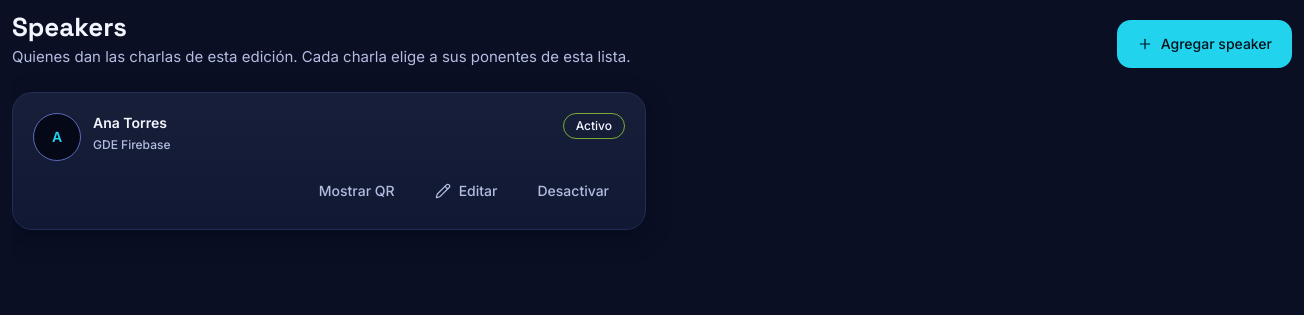
Test: SpeakersAdminView › stops offering a speaker and says what that means
This screenshot has width=1304, height=315.
Click the button "Desactivar" at (573, 191), box [522, 173, 625, 209]
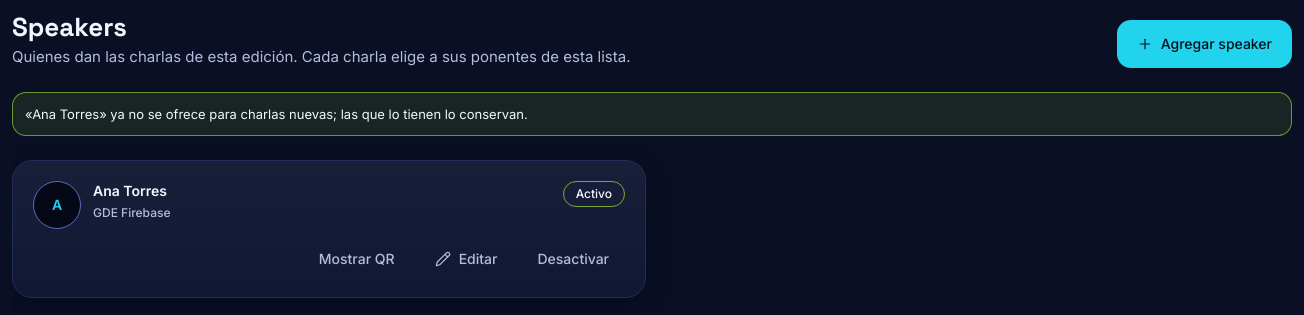
Now the text "«Ana Torres» ya no se ofrece para charlas nuevas; las que lo tienen lo conservan." is shown, box [25, 106, 528, 122]
